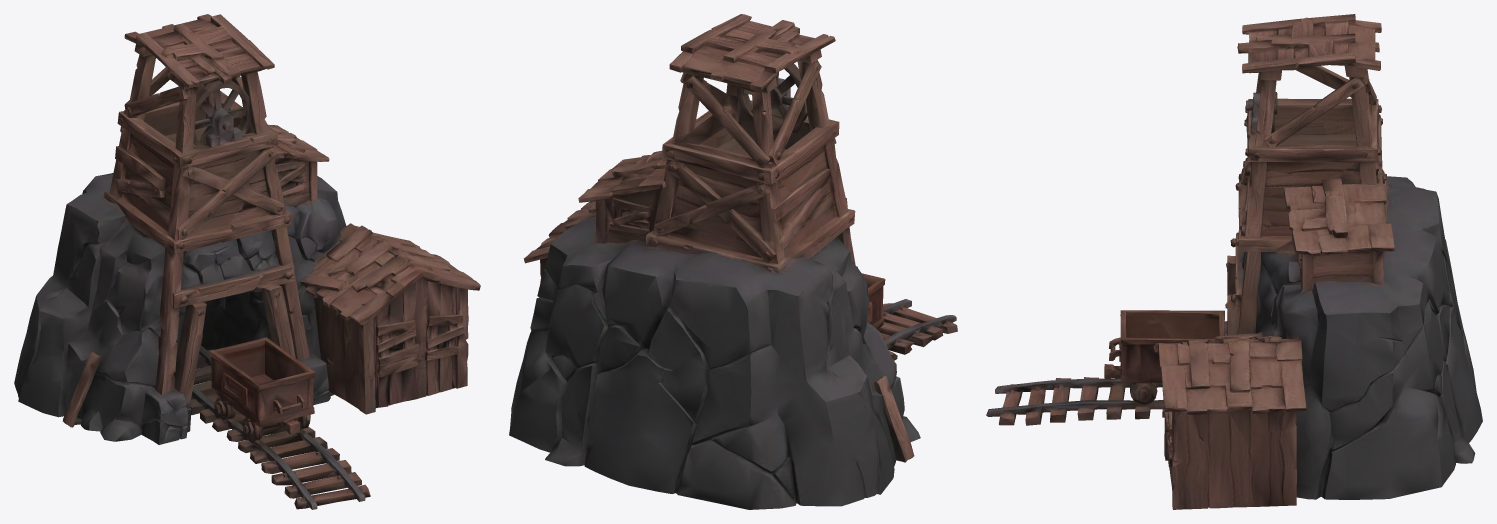
File: mine_idle.glb
3 views of the same model, side by side, from view 1: azimuth 30°, elevation 25°; view 2: azimuth 150°, elevation 25°; view 3: azimuth 270°, elevation 25° (orthographic). The views are drawn at different scales.
Parts seen in each view (by area): view 1: tripo_node_c26f39f1-afec-45ef-8cd1-f084d20595a0; view 2: tripo_node_c26f39f1-afec-45ef-8cd1-f084d20595a0; view 3: tripo_node_c26f39f1-afec-45ef-8cd1-f084d20595a0.
Part boxes in pixels (bbox=[...]): tripo_node_c26f39f1-afec-45ef-8cd1-f084d20595a0: bbox=[14, 14, 480, 509]; tripo_node_c26f39f1-afec-45ef-8cd1-f084d20595a0: bbox=[509, 14, 957, 509]; tripo_node_c26f39f1-afec-45ef-8cd1-f084d20595a0: bbox=[986, 14, 1482, 509].
Size of the model in its own units: 14 by 13.04 by 15.58.
Materials: 1 (1 with a texture image).
